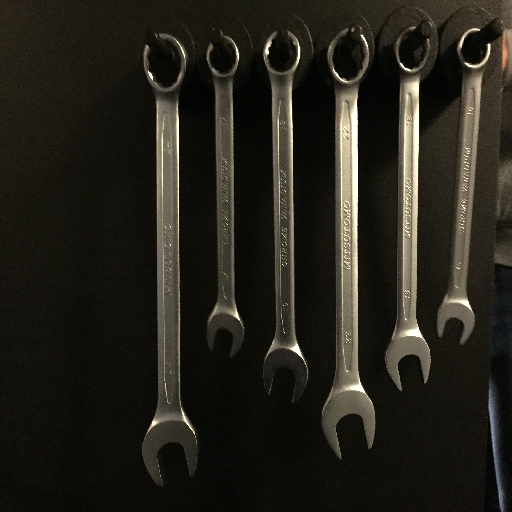bottom: (137, 420, 206, 491), (317, 386, 380, 460), (379, 327, 434, 391), (258, 347, 311, 406), (432, 294, 480, 351), (203, 306, 248, 359)
top: (138, 31, 193, 95), (323, 26, 373, 86), (391, 20, 431, 81), (259, 28, 303, 80), (454, 23, 495, 76), (202, 32, 243, 82)
